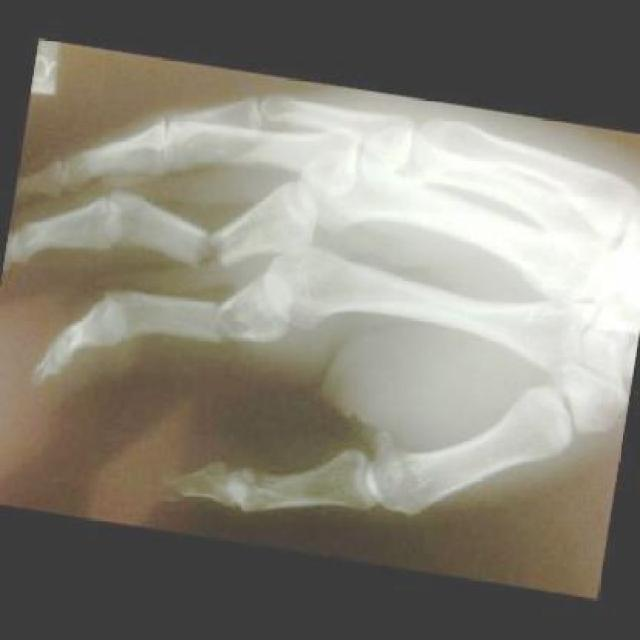Fracture: (180, 277, 271, 368), (162, 202, 242, 281)
